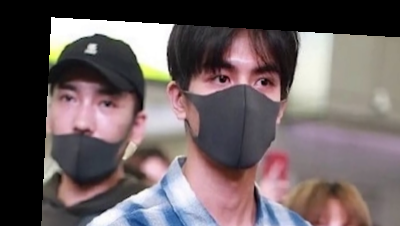mask_weared_incorrect: (47, 30, 153, 184)
with_mask: (163, 23, 306, 181)
